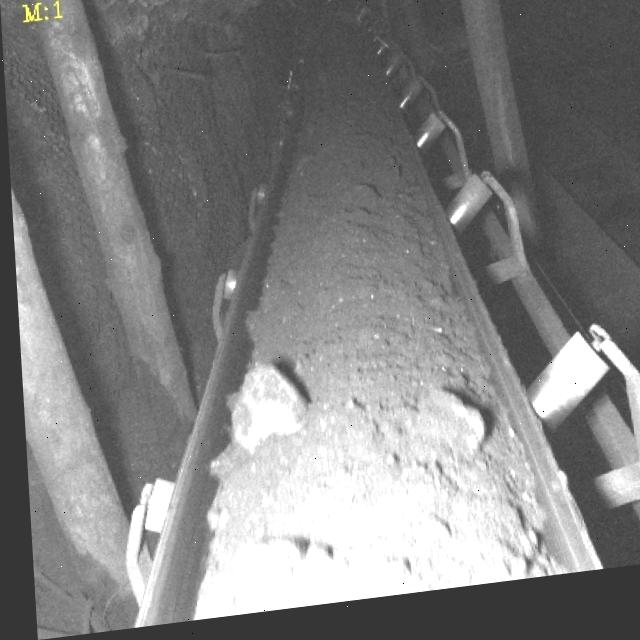large_sized_coal: (220, 361, 306, 457), (411, 395, 480, 476)
